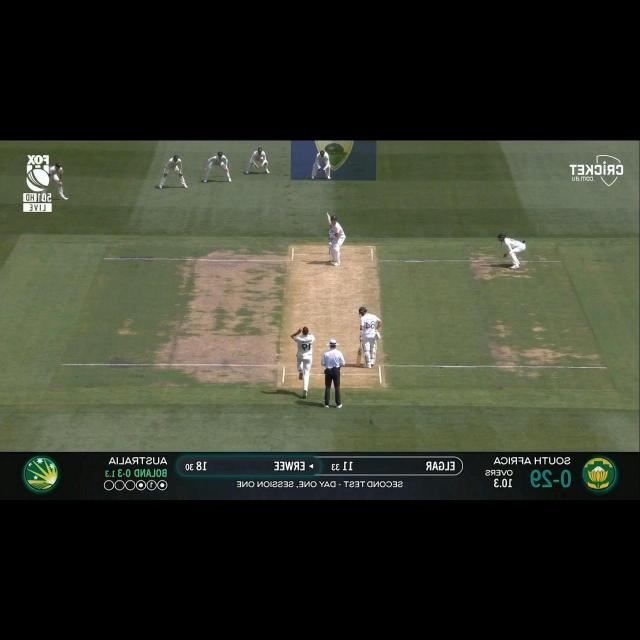bat: (356, 348, 362, 367), (325, 212, 332, 226)
toe: (355, 362, 362, 367), (325, 212, 330, 217)
